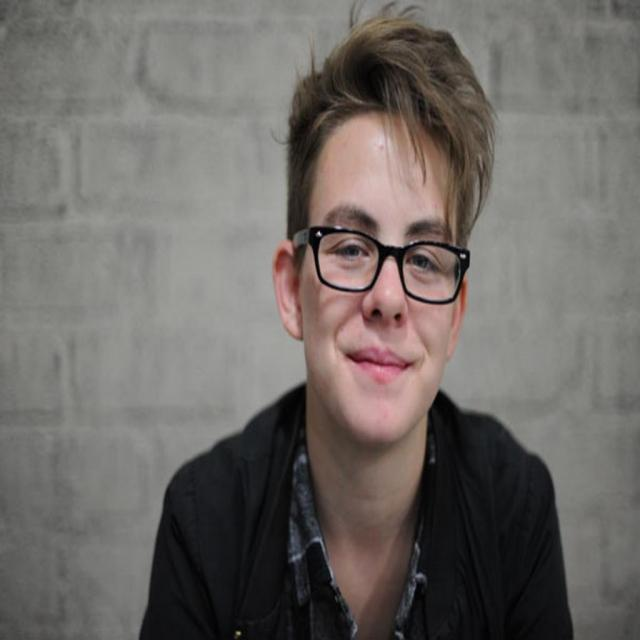nomask: (299, 112, 461, 442)
